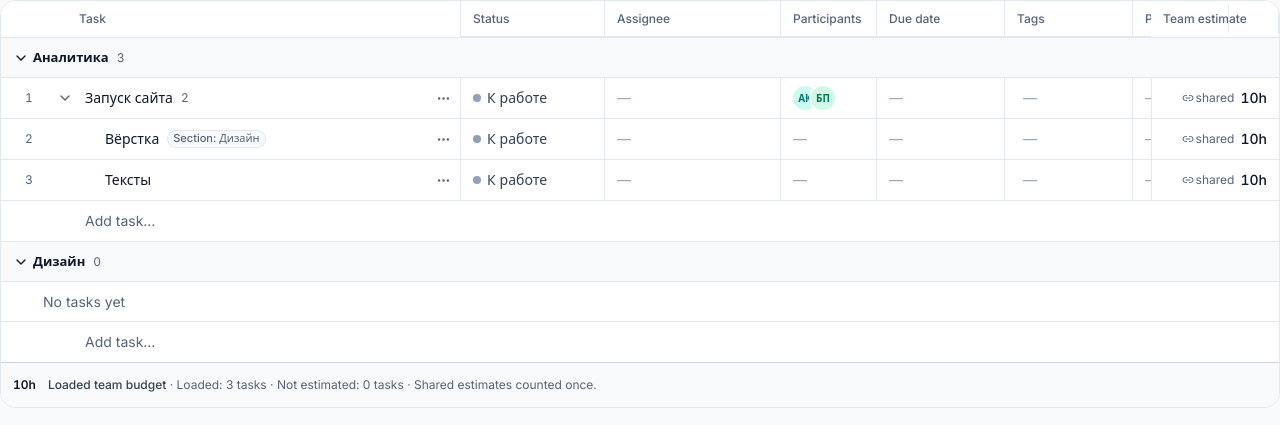
Test: section disclosure › keeps descendant collapse separate and expands a standalone section on Add task
Click the button named "Collapse subtasks of “Запуск сайта”": (65, 98) [53, 86, 77, 110]
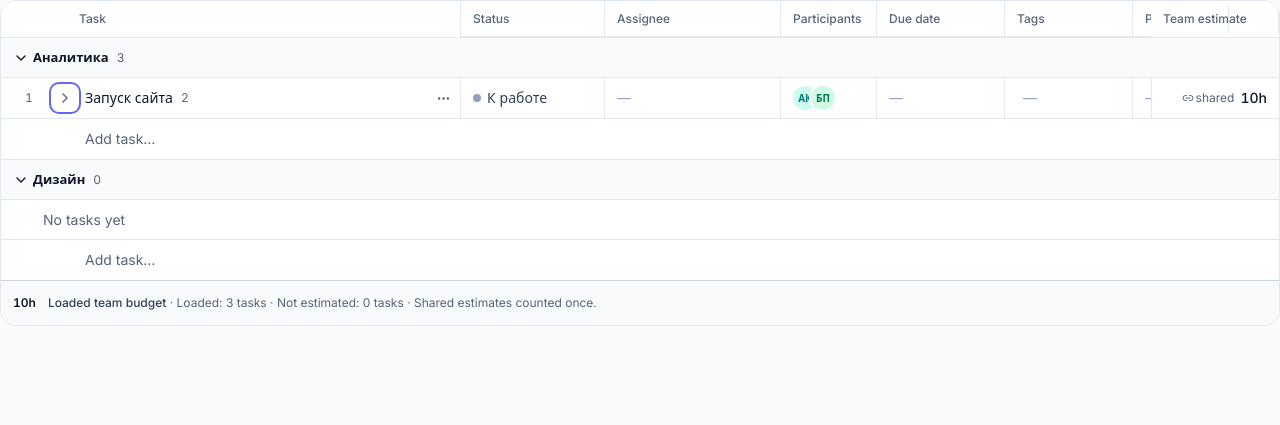
Click the button with aria-label "Collapse section “Аналитика”": (61, 58) [13, 42, 109, 74]
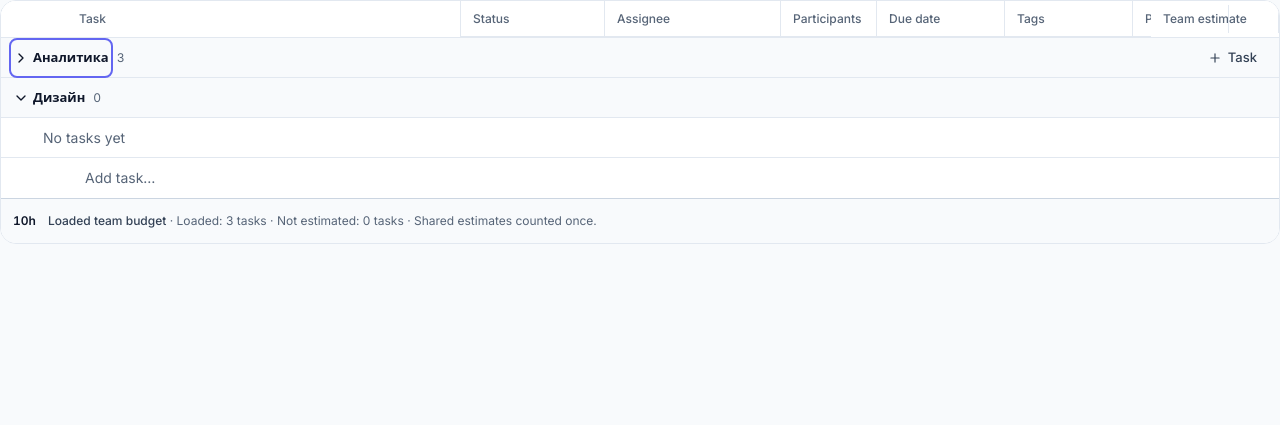
Click the button with aria-label "Add task to “Аналитика”": (1232, 58) [1198, 42, 1267, 74]
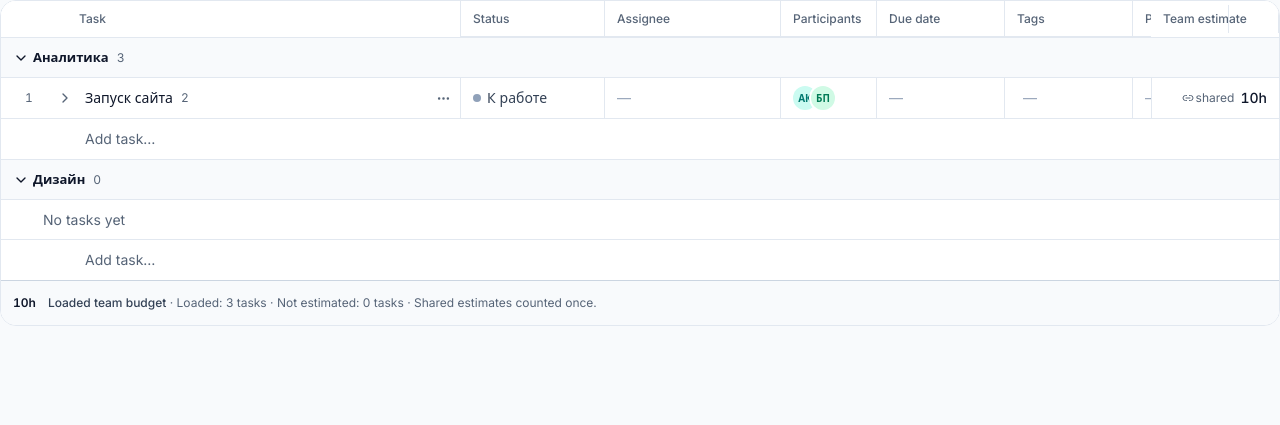
Check: the button "Вёрстка" is not shown
Check: the button named "Expand subtasks of “Запуск сайта”" is collapsed
Click the button named "Expand subtasks of “Запуск сайта”": (65, 98) [53, 86, 77, 110]
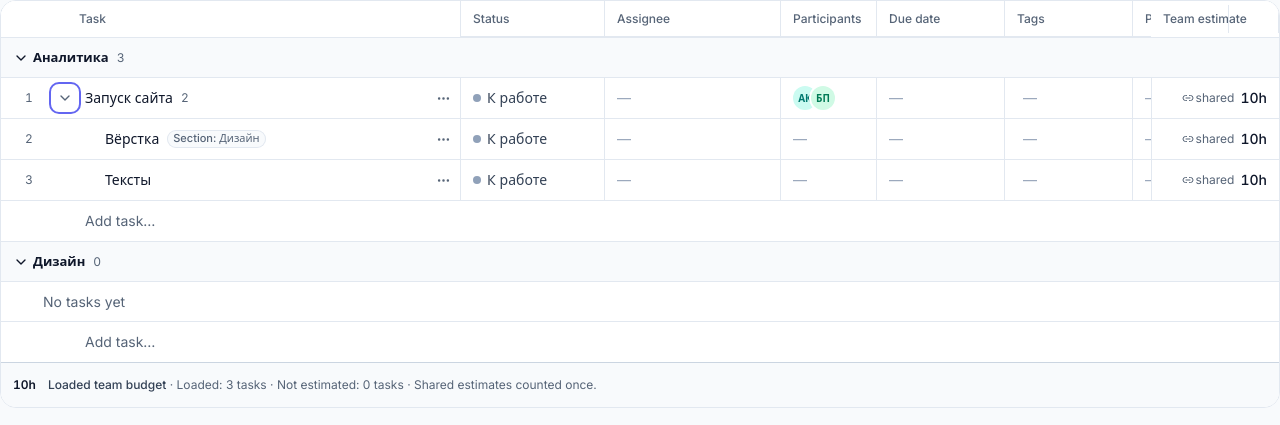
Check: the button "Вёрстка" is shown, box [101, 125, 163, 153]
